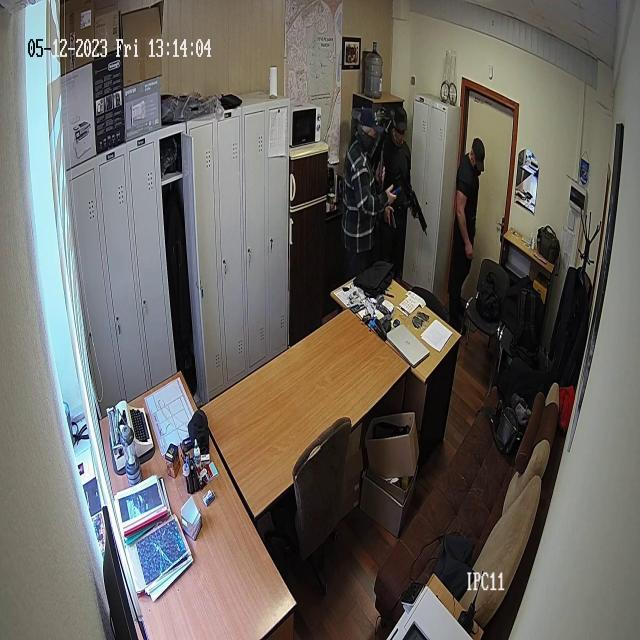pistol: (406, 184, 428, 238), (388, 208, 398, 232)
